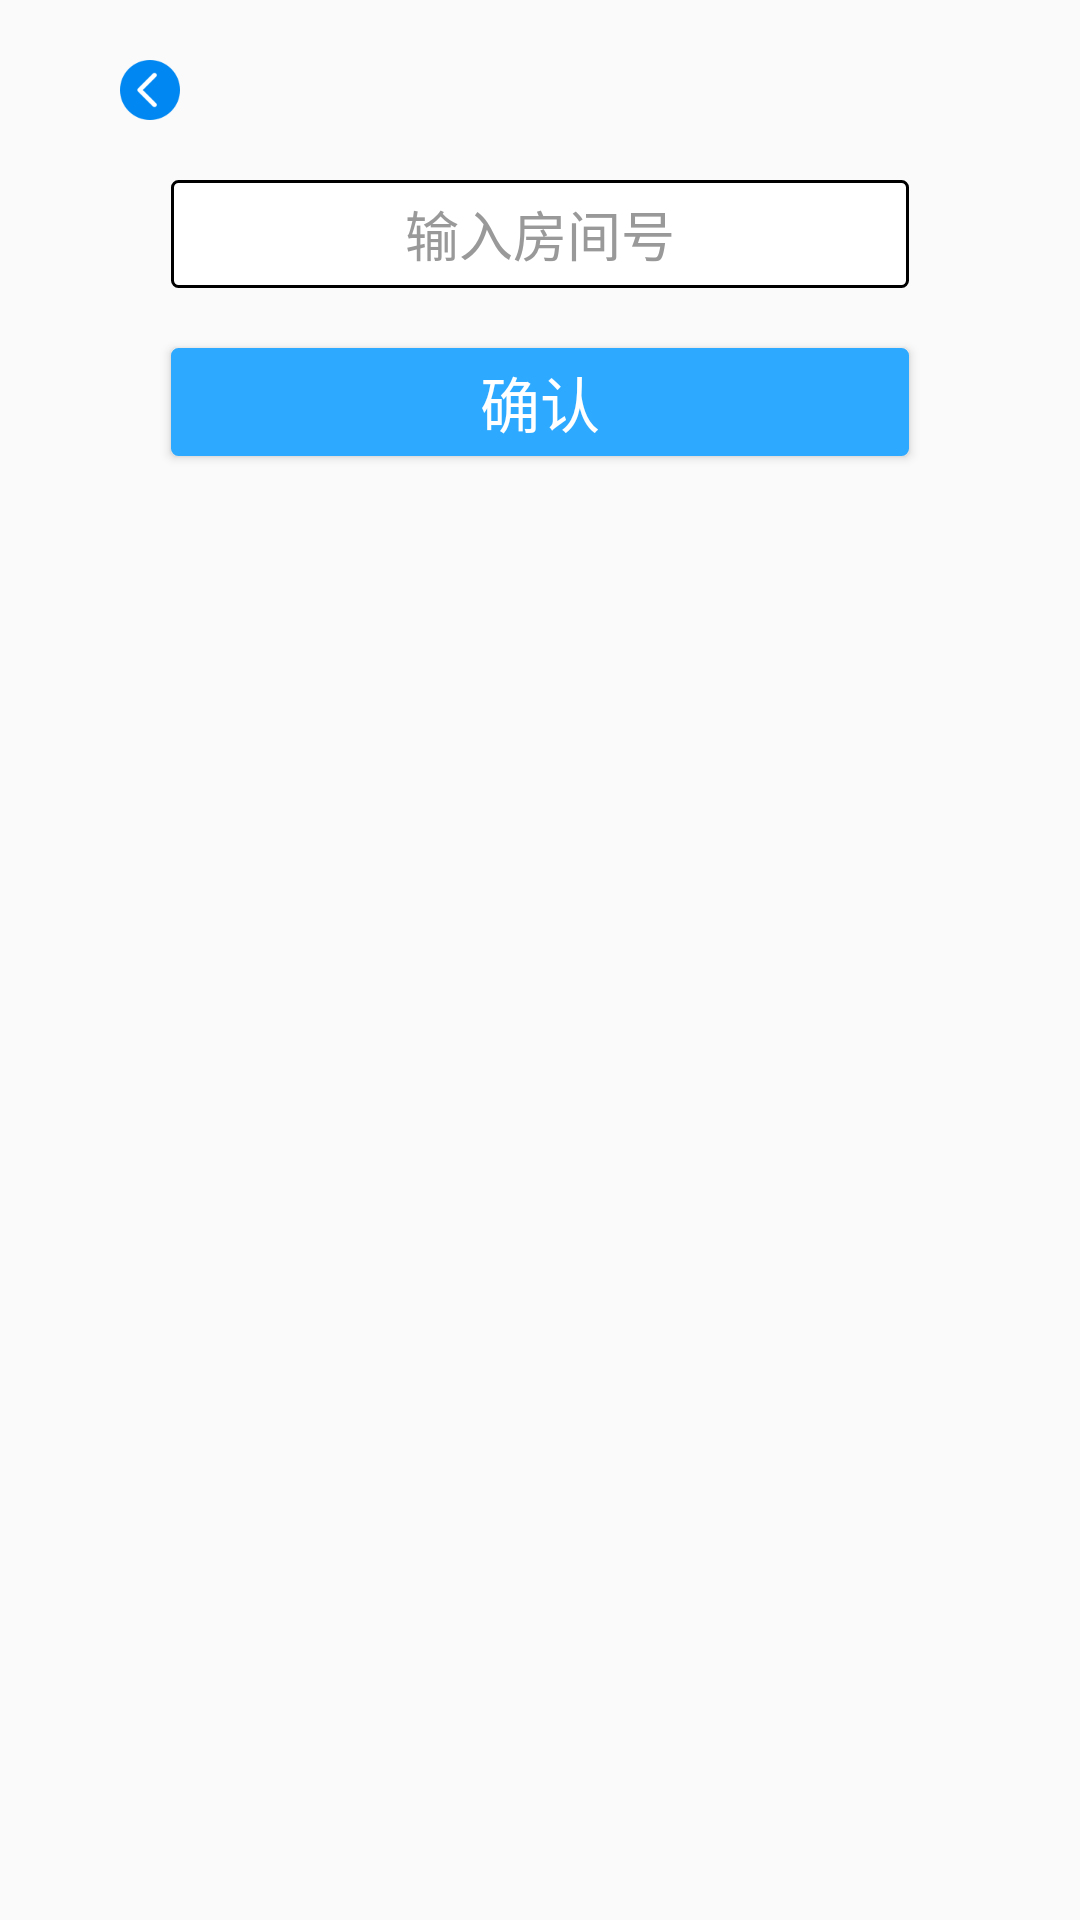

Icons on this 1080w x 1920h Android screen, each with its box as region(x1, y1, x2, y2):
back: region(120, 60, 180, 120)
